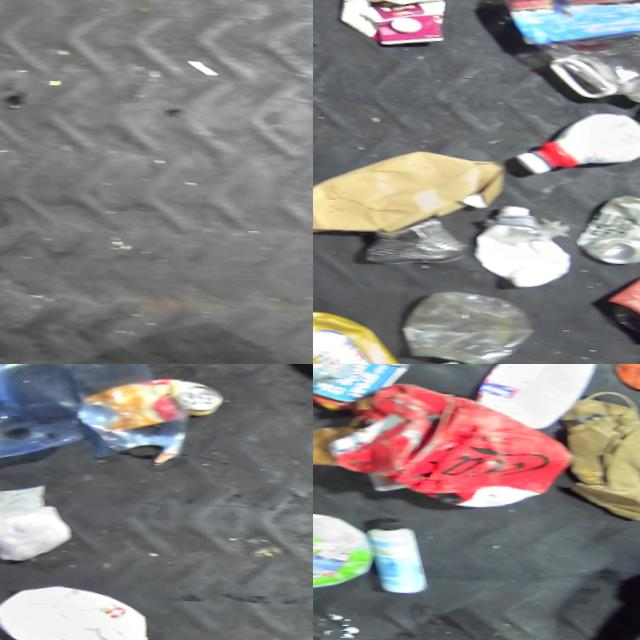can: (80, 370, 216, 445), (345, 202, 469, 273), (566, 173, 640, 256)
milk_jug: (493, 0, 640, 103), (0, 578, 151, 640), (313, 502, 361, 602)
non_white_jug: (313, 295, 432, 364), (596, 235, 640, 342)
